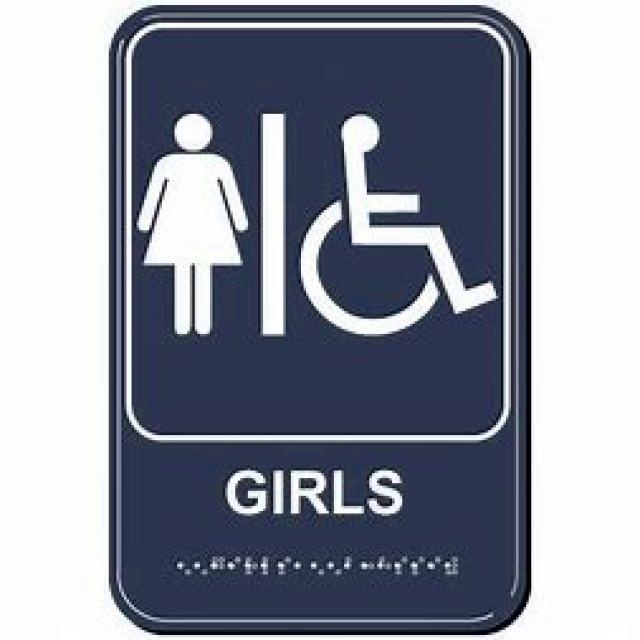ISA: (296, 110, 502, 344)
